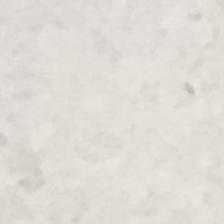Non_Crack: (21, 18, 223, 202)
